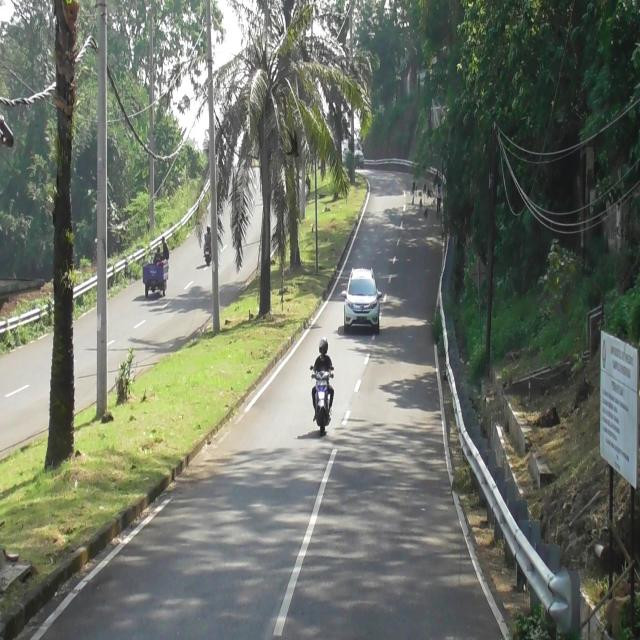motorcycle: (313, 369, 334, 433), (204, 245, 213, 265)
person: (314, 335, 335, 378), (205, 228, 213, 247)
rider_region: (312, 334, 334, 440), (204, 226, 214, 266)
